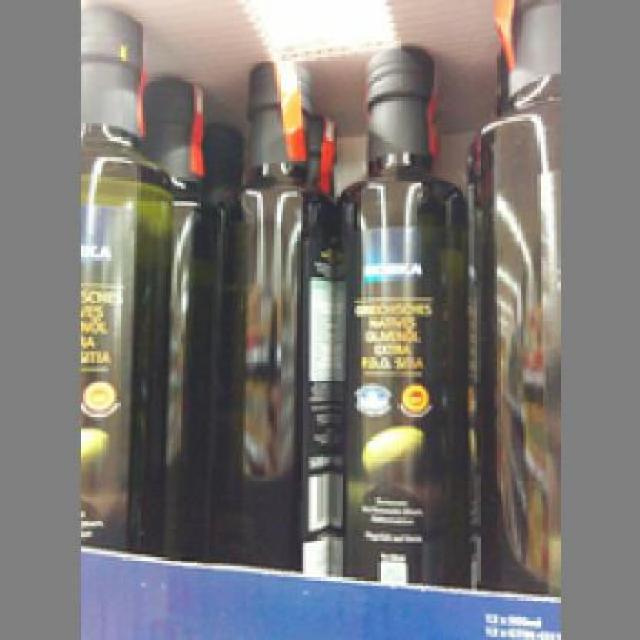Oil: (334, 43, 472, 586), (197, 57, 340, 574), (73, 0, 169, 552)
